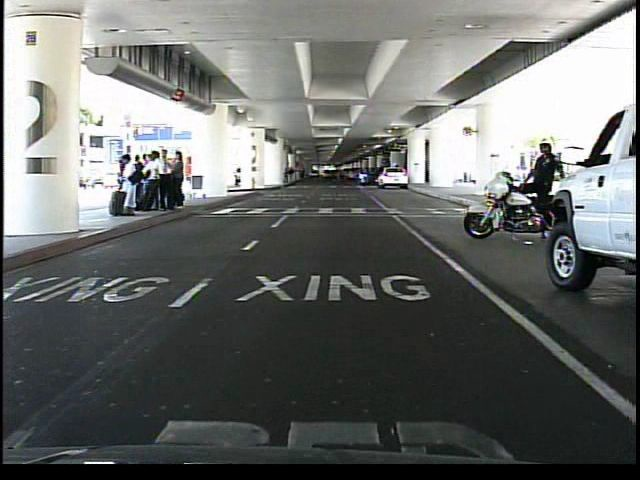person: (523, 131, 566, 244)
